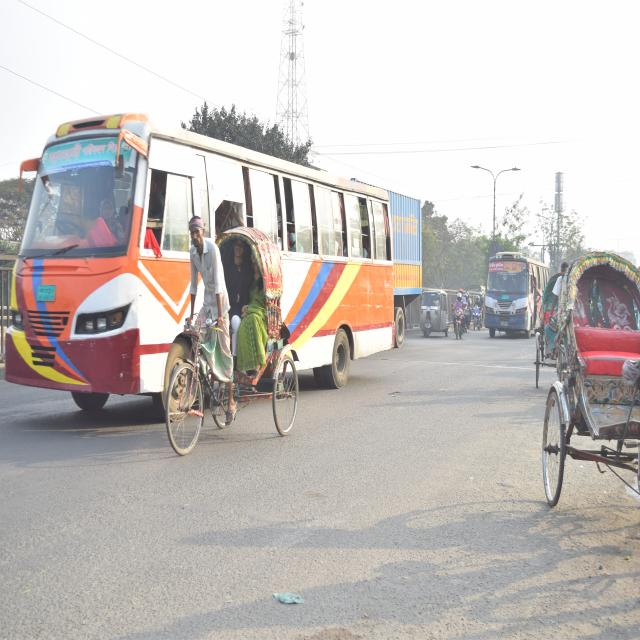bus: (4, 106, 402, 418), (482, 253, 548, 335)
motorbike: (448, 296, 469, 344), (469, 293, 482, 331)
